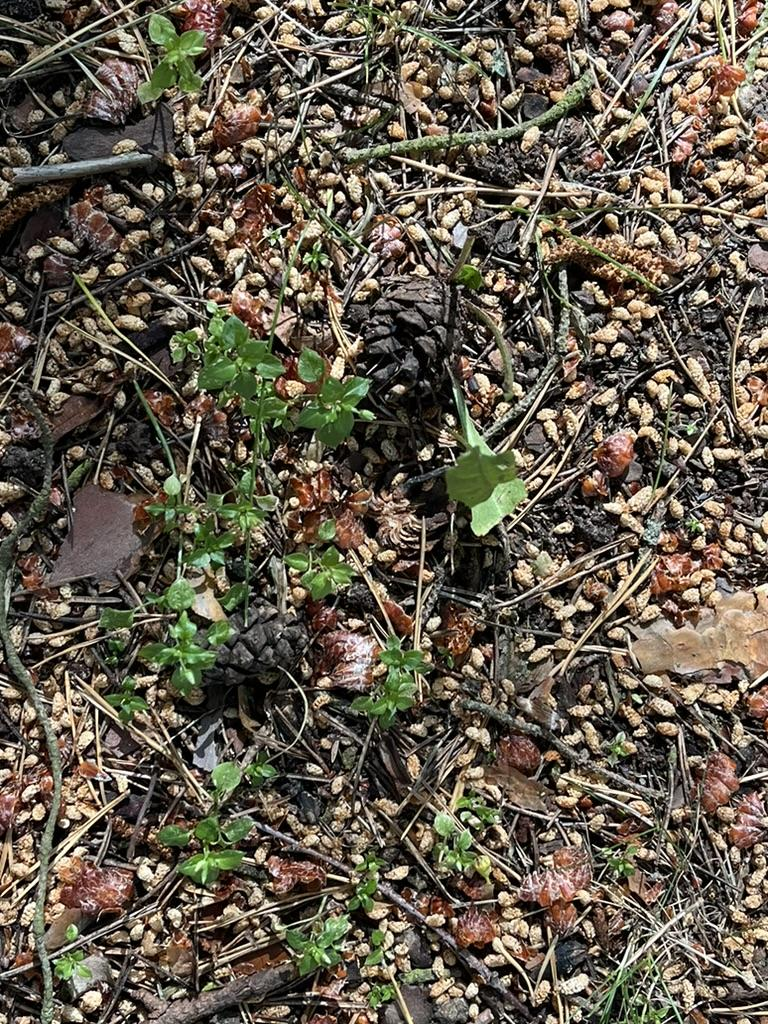pine: (348, 260, 458, 436), (198, 593, 318, 703)
